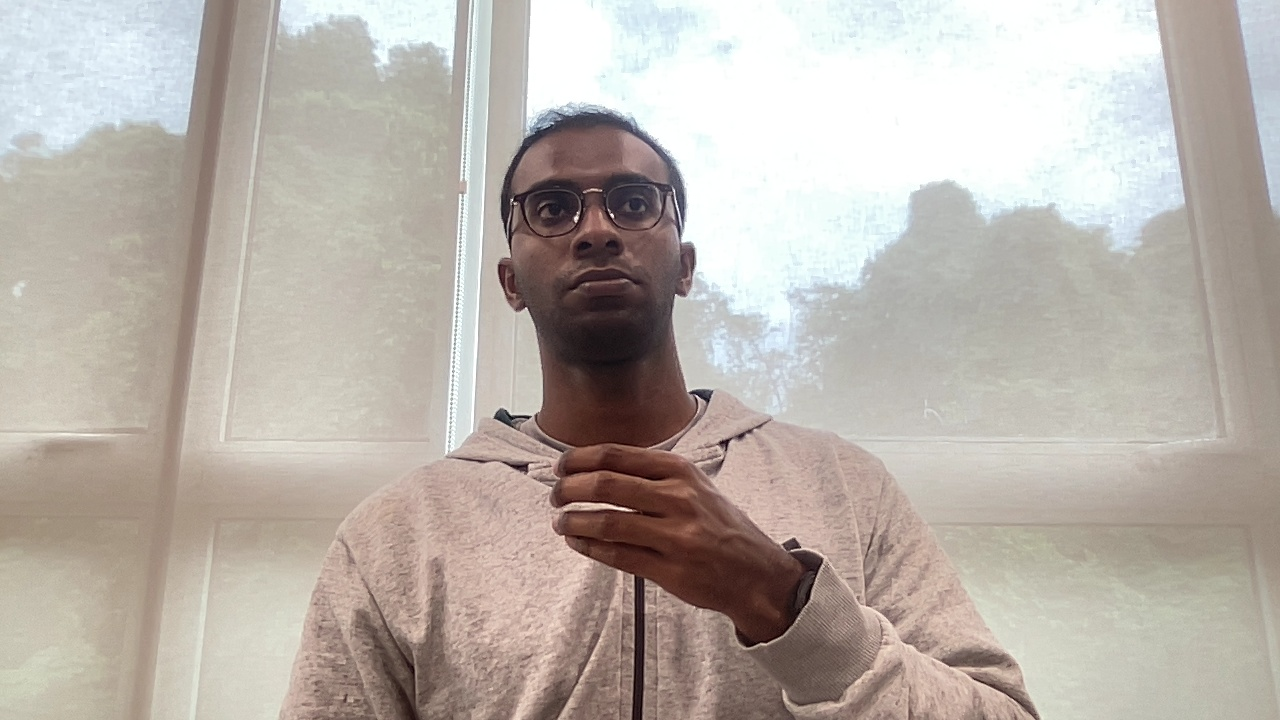drink: (542, 436, 768, 607)
